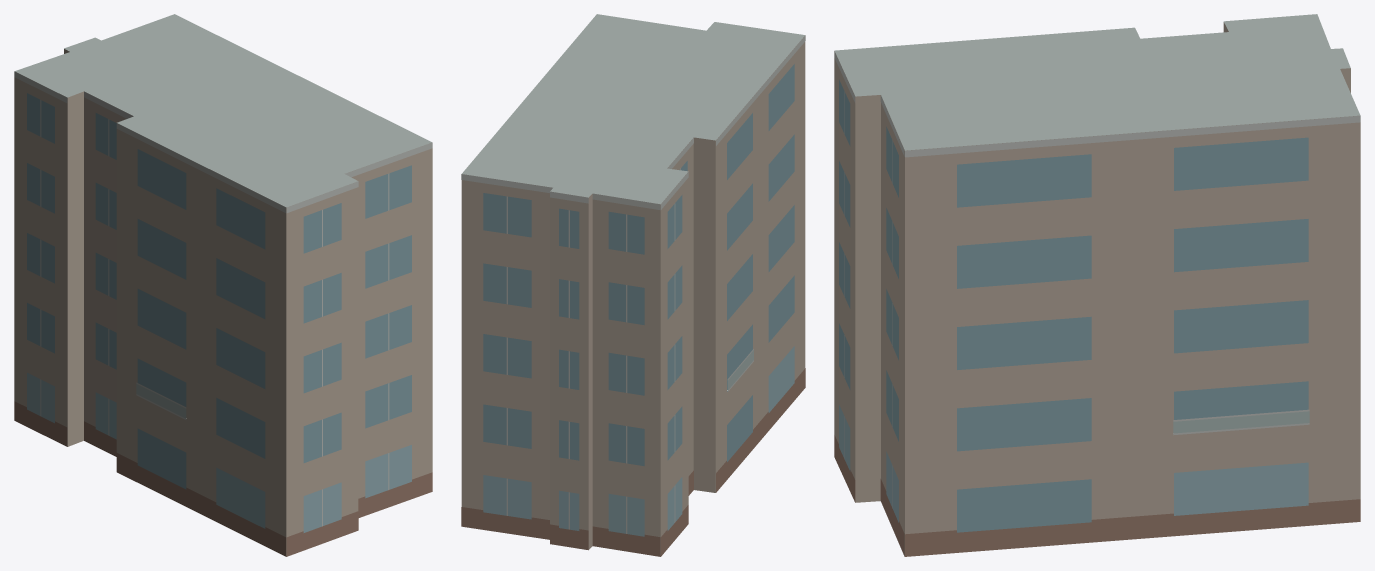
File: survey-upis-32838162.glb
3 renders of one model, left to right at view 1: azimuth 30°, elevation 25°; view 2: azimuth 150°, elevation 25°; view 3: azimuth 270°, elevation 25°, orthographic. The views are drawn at different scales.
Parts seen in each view (by area): view 1: survey-upis-32838162.tmp; view 2: survey-upis-32838162.tmp; view 3: survey-upis-32838162.tmp.
Boxes of the visible parts, x1,y1,x2,y2 form: survey-upis-32838162.tmp: (14,14,432,556); survey-upis-32838162.tmp: (461,14,805,556); survey-upis-32838162.tmp: (834,14,1360,556).
Size of the model in its own units: 10.39 by 14.4 by 16.91.
